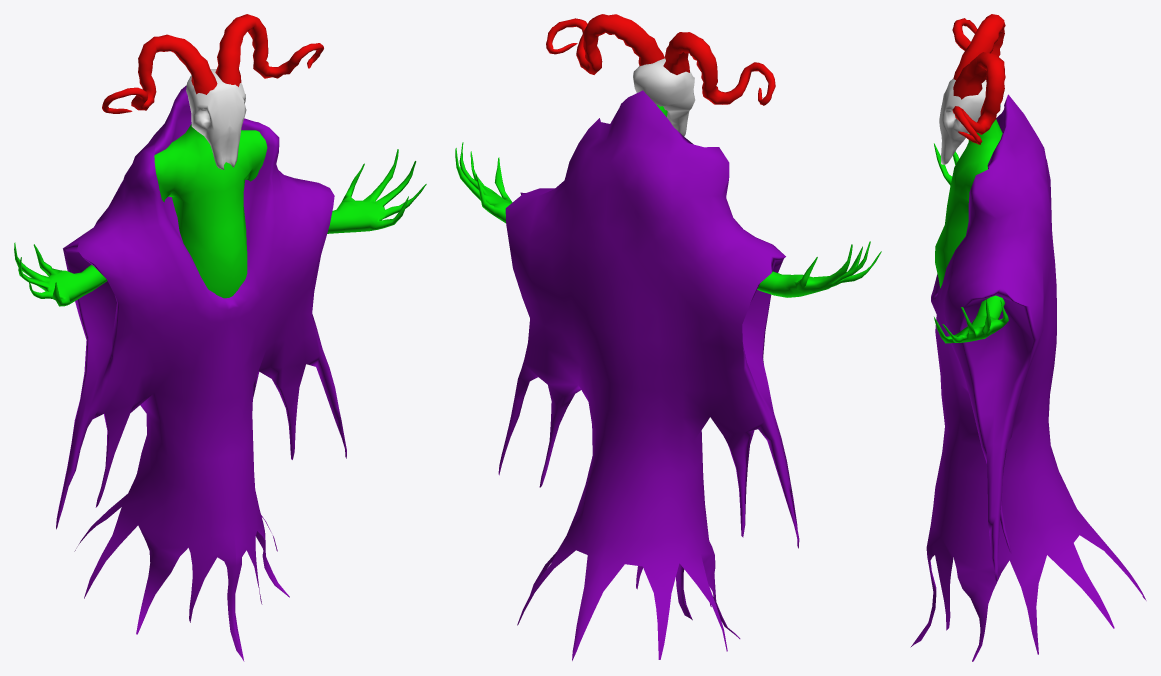
File: WeepingAngel_low.fbx
The picture shows the model from 3 angles, left to right: view 1: azimuth 30°, elevation 25°; view 2: azimuth 150°, elevation 25°; view 3: azimuth 270°, elevation 25°; orthographic projection. The views are drawn at different scales.
Parts seen in each view (by area): view 1: WeepingAngel_low; view 2: WeepingAngel_low; view 3: WeepingAngel_low.
Part boxes in pixels (x1,y1,x2,y2): WeepingAngel_low: [14, 14, 426, 661]; WeepingAngel_low: [455, 14, 881, 660]; WeepingAngel_low: [910, 14, 1146, 661].
Bounding box in the file's own units: 12.43 × 18.12 × 6.35.
